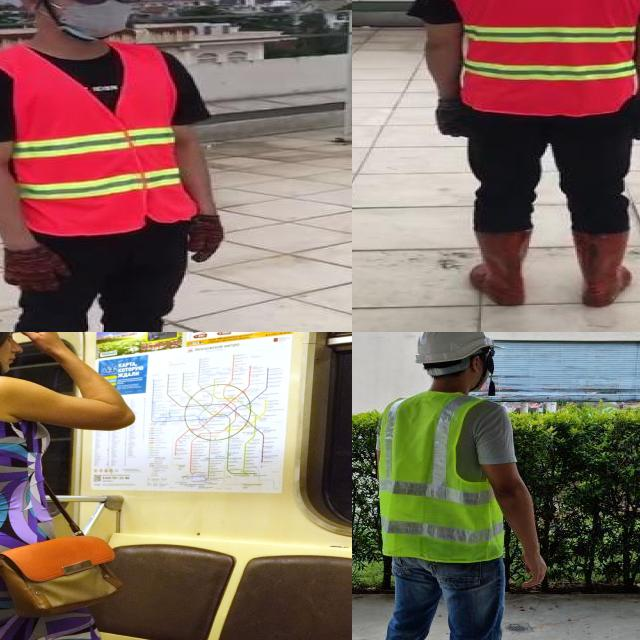No_Ear-Protection: (472, 354, 482, 374)
boots: (467, 229, 534, 305), (572, 229, 634, 306)
face_mask: (46, 0, 145, 36)
glasses: (62, 0, 149, 10)
hand_glove: (3, 246, 72, 296), (189, 212, 223, 261), (433, 100, 467, 138), (635, 100, 640, 139)
head_helmet: (412, 332, 498, 375)
person: (0, 0, 240, 332), (407, 0, 640, 318), (352, 332, 581, 640)
vest: (11, 40, 193, 236), (376, 387, 511, 566), (445, 0, 640, 115)
